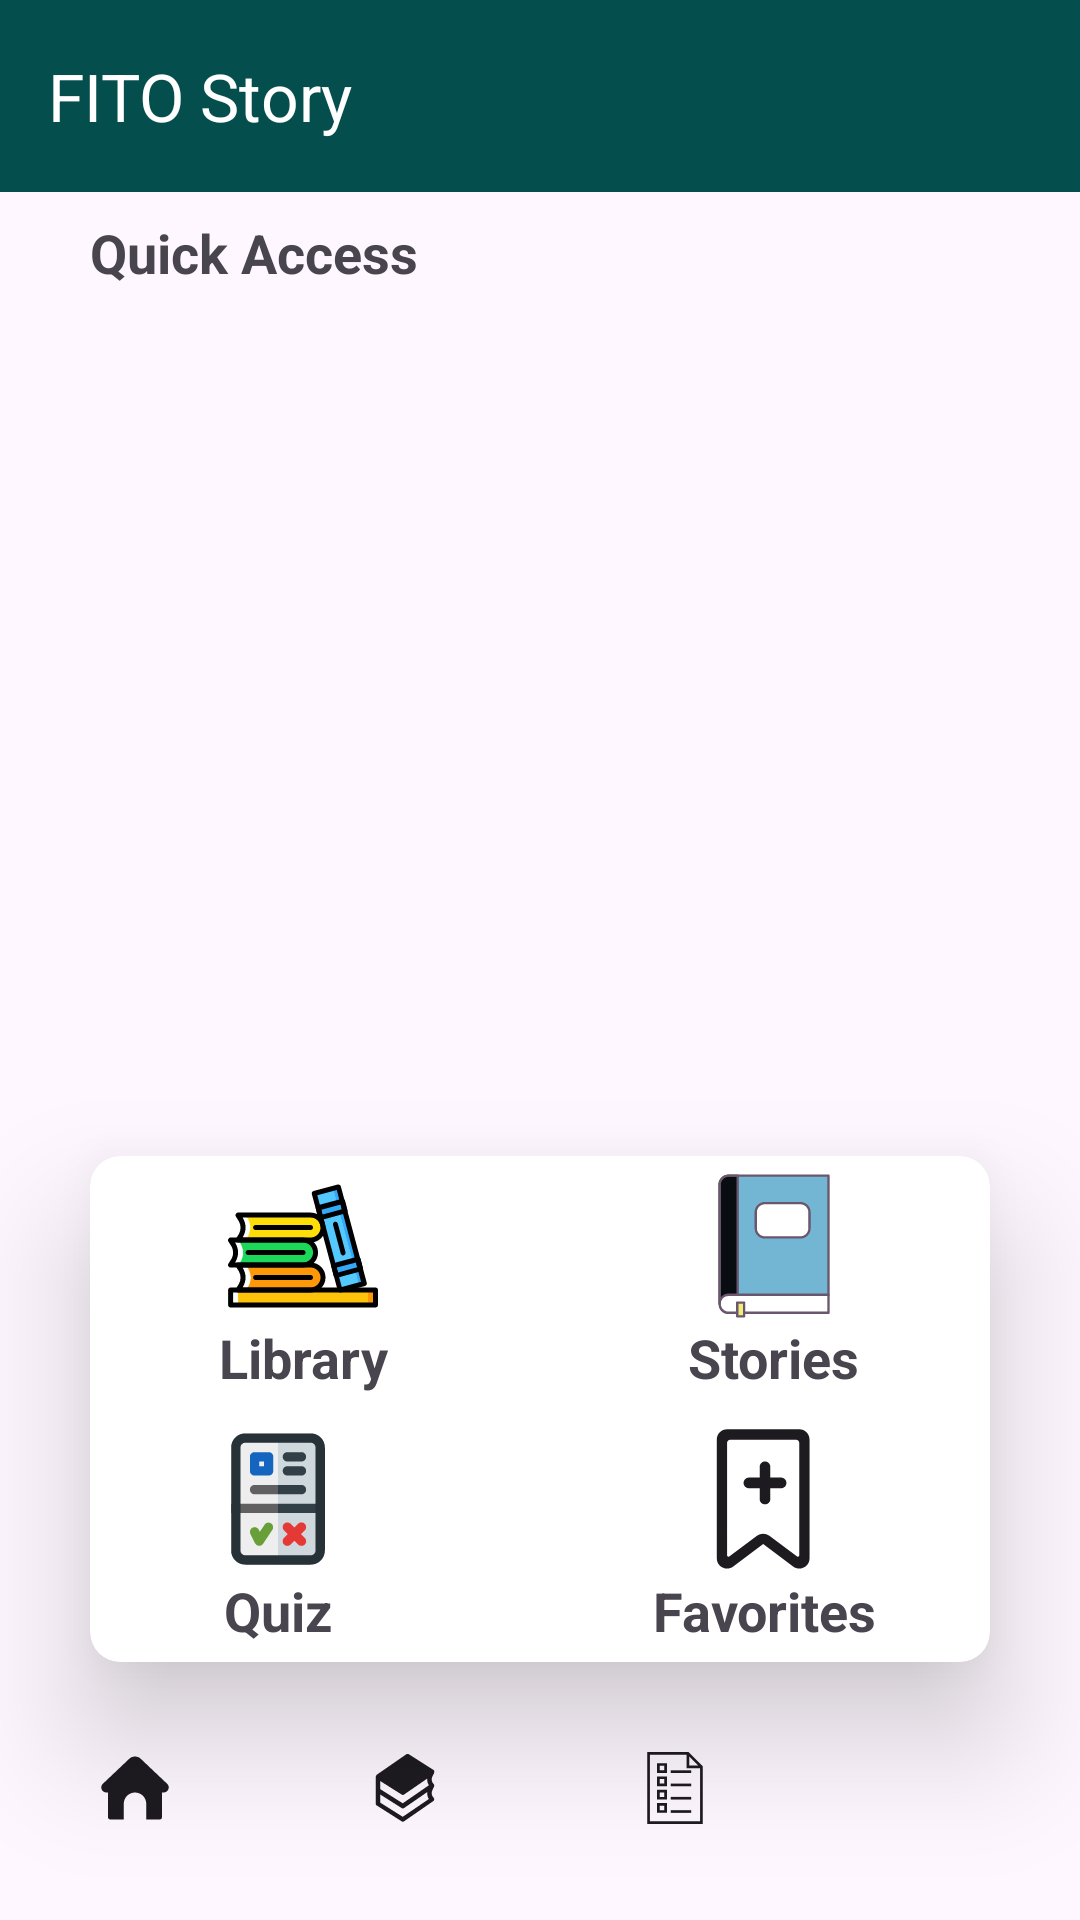

Icon click points for this 1080 × 1920 phone screenshot, format point (x, y):
home: point (135, 1788)
